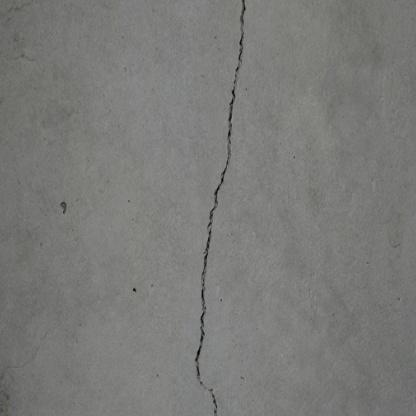Cracks: (192, 0, 251, 416)
